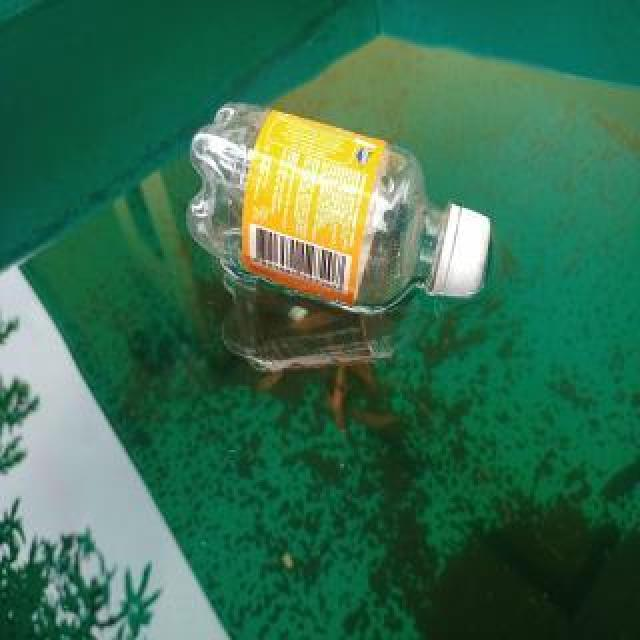bottle: (183, 96, 493, 318)
